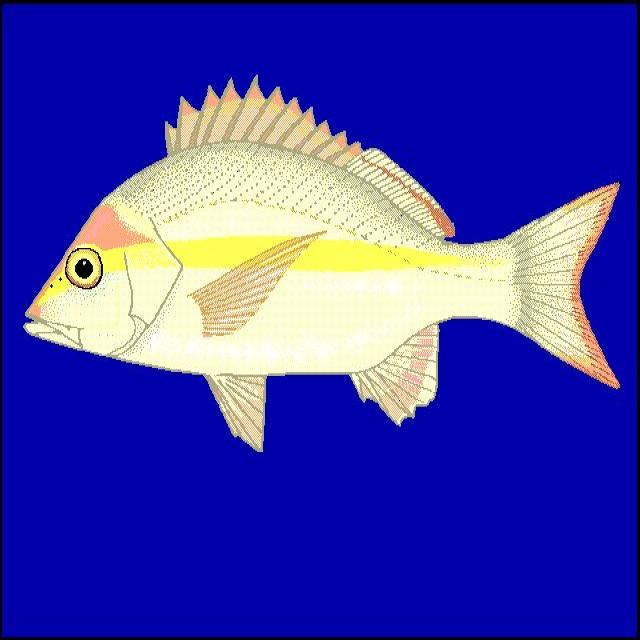ikan: (22, 73, 621, 452)
